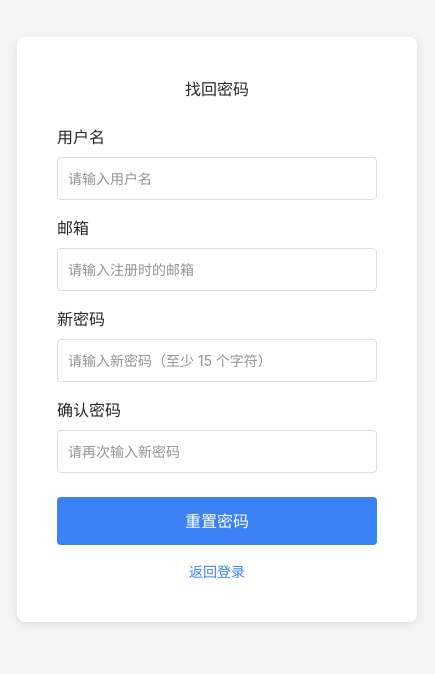
Test case: auth page behavior › validates reset password confirmation before posting
Type "alice" into the field with placeholder "请输入用户名" at point(217, 178), box [57,156,377,200]
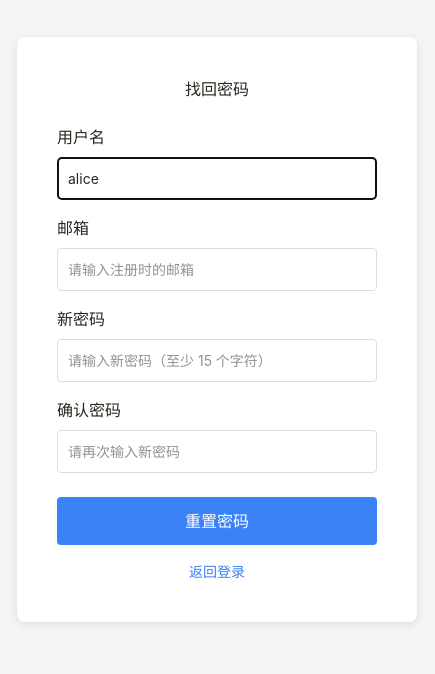
Type "alice@example.com" into the field with placeholder "请输入注册时的邮箱" at point(217, 269), box [57,248,377,290]
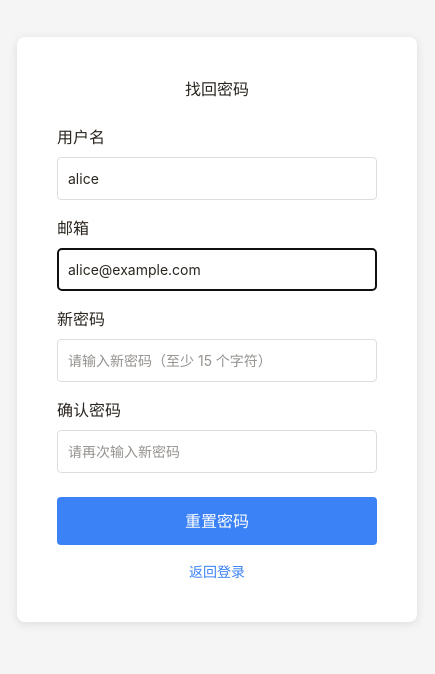
Type "first-password" into the password field with placeholder "请输入新密码（至少 15 个字符）" at point(217, 360), box [57,338,377,382]
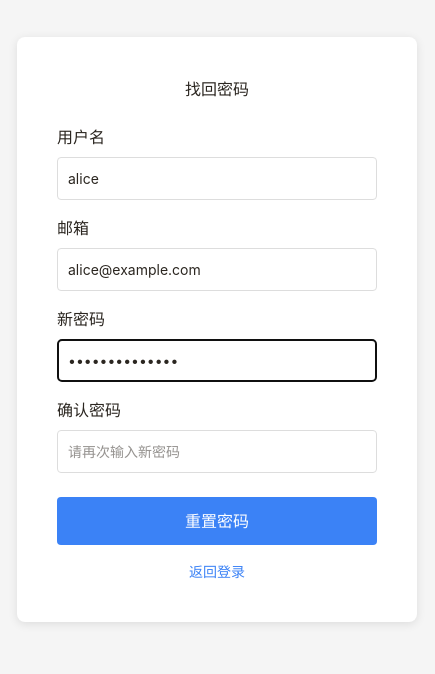
Type "second-password" into the password field with placeholder "请再次输入新密码" at point(217, 451), box [57,430,377,472]
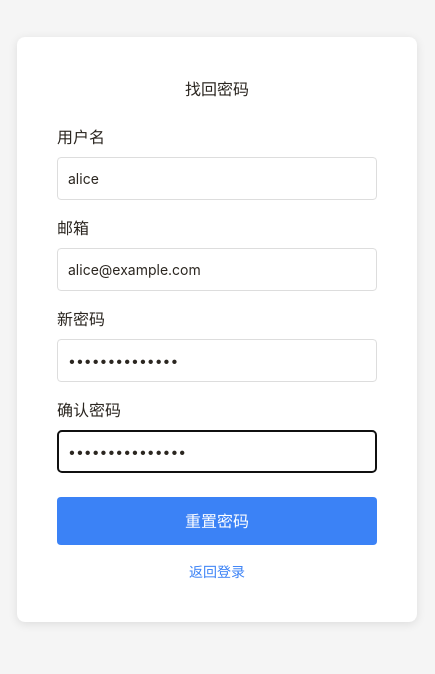
Click the submit button at point(217, 520), box [57,496,377,544]
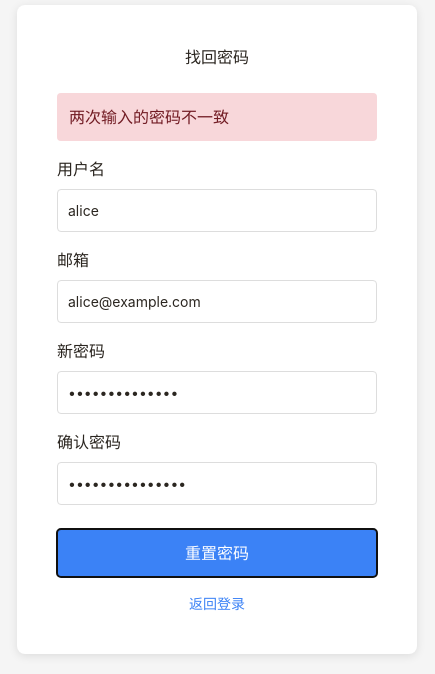
Expected: the text "两次输入的密码不一致" is shown, [57,92,377,140]
